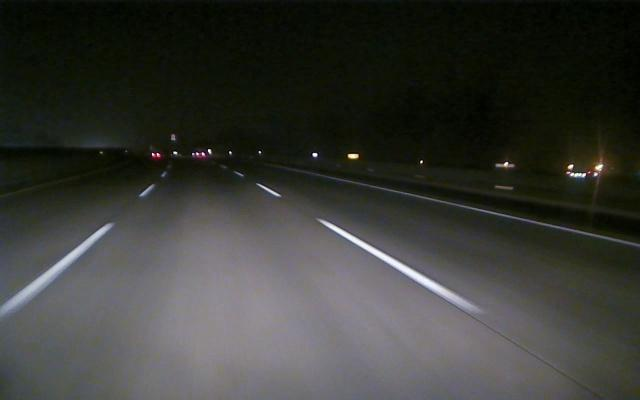lane: (259, 183, 487, 320), (257, 184, 487, 318), (2, 184, 155, 319), (352, 180, 640, 248)
